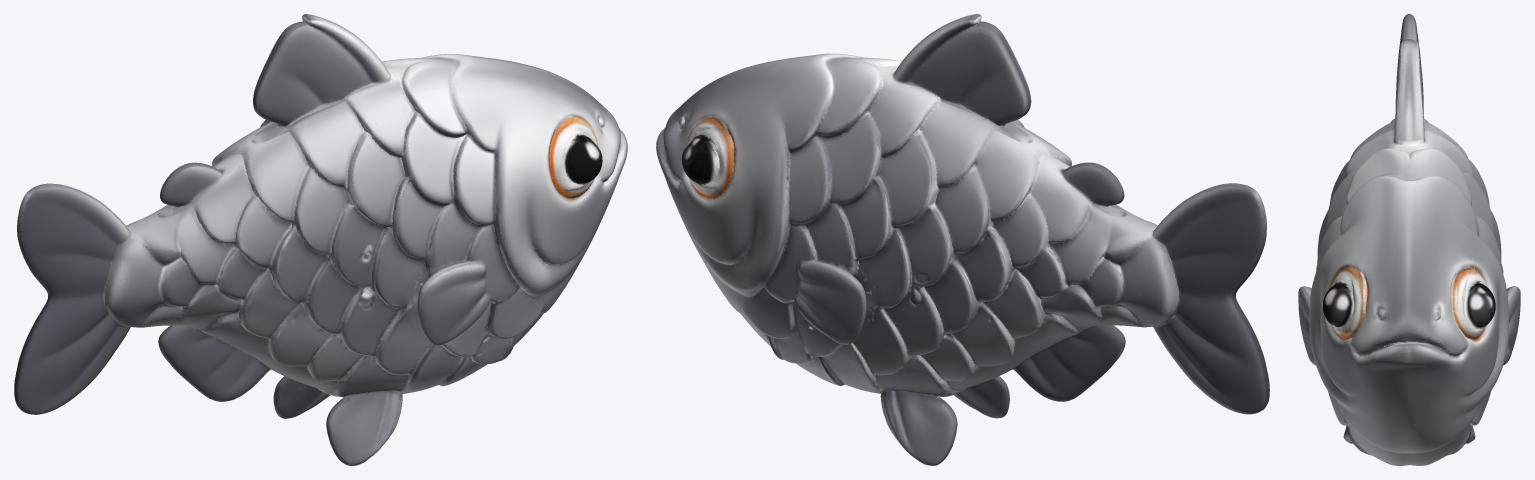
3 renders of one model, left to right at view 1: azimuth 30°, elevation 25°; view 2: azimuth 150°, elevation 25°; view 3: azimuth 270°, elevation 25°, orthographic. The views are drawn at different scales.
Visible parts, largest first — view 1: geometry_0; view 2: geometry_0; view 3: geometry_0.
Boxes of the visible parts, left/top/right/bottom form: geometry_0: left=14, top=14, right=627, bottom=465; geometry_0: left=656, top=14, right=1269, bottom=465; geometry_0: left=1298, top=14, right=1520, bottom=465.
Size of the model in its own units: 0.12 by 0.0813 by 0.0416.
1 material, 1 textured.
